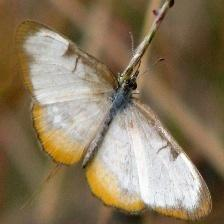butterfly: (17, 24, 212, 220)
